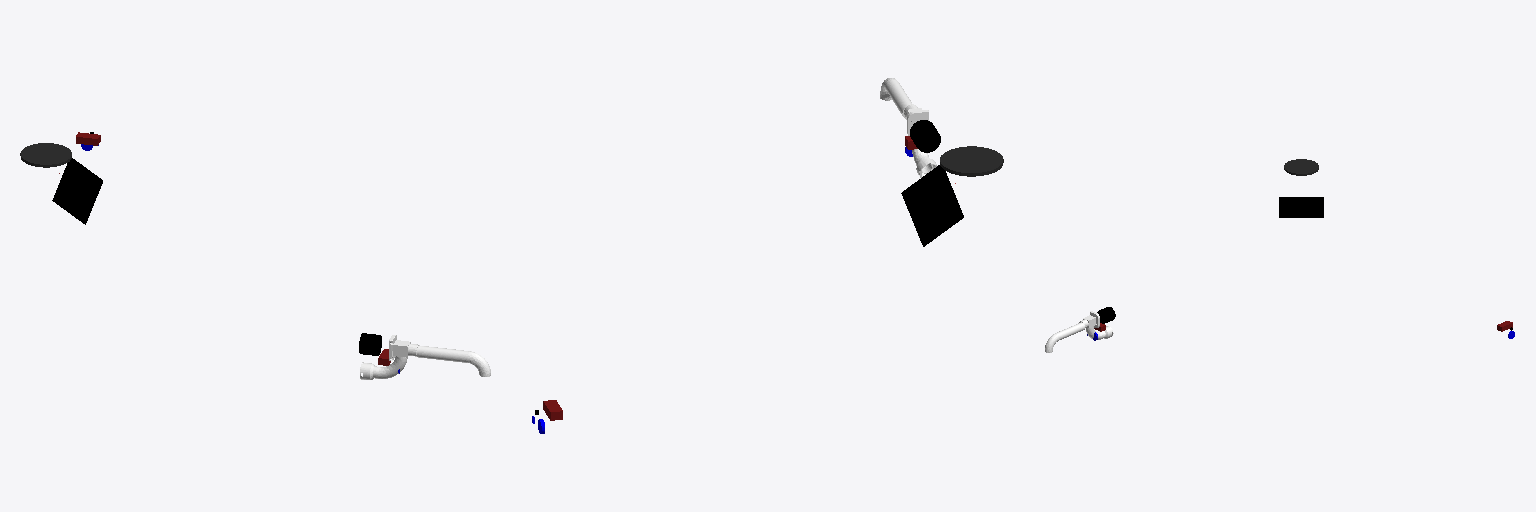
--- Facts derived from the render (not from the file) ---
The picture shows the robot from 3 angles, left to right: view 1: azimuth 30°, elevation 25°; view 2: azimuth 150°, elevation 25°; view 3: azimuth 270°, elevation 25°; orthographic projection.
Robot: baxter — 54 links, 53 joints (15 revolute, 38 fixed); root link base; default pose: all joints at 0.
Links seen in each view (by area): view 1: display, custom_vacuum_link_base, sonar_ring, custom_vacuum_link; view 2: display, sonar_ring, custom_vacuum_link_base, custom_vacuum_link_side2_base, custom_vacuum_link; view 3: display.
Boxes of the visible links, x1,y1,x2,y2 form: display: (52, 158, 102, 224); custom_vacuum_link_base: (360, 335, 418, 379); sonar_ring: (20, 143, 71, 167); custom_vacuum_link: (417, 345, 490, 376); display: (901, 165, 963, 246); sonar_ring: (940, 146, 1003, 176); custom_vacuum_link_base: (904, 104, 936, 177); custom_vacuum_link_side2_base: (910, 120, 940, 152); custom_vacuum_link: (880, 78, 911, 119); display: (1279, 197, 1323, 217).
Bounding box of the posed robot: 1.07 × 2.27 × 0.595 m (x, y, z).
2 mesh visuals loaded from 13 distinct referenced files (2 Collada DAE); not drawn: 18 (reference not matched to a file when rendering).

URDF robot description (baxter):
<?xml version="1.0" ?>
<!-- =================================================================================== -->
<!-- |    This document was autogenerated by xacro from baxter_white_hand.urdf.xacro   | -->
<!-- |    EDITING THIS FILE BY HAND IS NOT RECOMMENDED                                 | -->
<!-- =================================================================================== -->
<robot name="baxter" xmlns:xacro="http://ros.org/wiki/xacro">
  <link name="base">
  </link>
  <link name="torso">
    <visual>
      <origin rpy="0 0 0" xyz="0 0 0"/>
      <geometry>
        <mesh filename="package://baxter_description/meshes/torso/base_link_collision.STL"/>
      </geometry>
      <material name="darkgray">
        <color rgba=".2 .2 .2 1"/>
      </material>
    </visual>
    <collision>
      <origin rpy="0 0 0" xyz="0 0 0"/>
      <geometry>
        <mesh filename="package://baxter_description/meshes/torso/base_link_collision.STL"/>
      </geometry>
    </collision>
    <inertial>
      <origin rpy="0 0 0" xyz="0.000000 0.000000 0.000000"/>
      <mass value="35.336455"/>
      <inertia ixx="1.849155" ixy="-0.000354" ixz="-0.154188" iyy="1.662671" iyz="0.003292" izz="0.802239"/>
    </inertial>
  </link>
  <link name="left_torso_itb">
    <!-- note: invisible -->
    <inertial>
      <origin rpy="0 0 0" xyz="0.000000 0.000000 0.000000"/>
      <mass value="0.0001"/>
      <inertia ixx="1e-08" ixy="0" ixz="0" iyy="1e-08" iyz="0" izz="1e-08"/>
    </inertial>
  </link>
  <link name="right_torso_itb">
    <!-- note: invisible -->
    <inertial>
      <origin rpy="0 0 0" xyz="0.000000 0.000000 0.000000"/>
      <mass value="0.0001"/>
      <inertia ixx="1e-08" ixy="0" ixz="0" iyy="1e-08" iyz="0" izz="1e-08"/>
    </inertial>
  </link>
  <link name="pedestal">
    <visual>
      <origin rpy="0 0 0" xyz="0 0 0"/>
      <geometry>
        <mesh filename="package://baxter_description/meshes/base/pedestal_link_collision.STL"/>
      </geometry>
      <material name="darkgray">
        <color rgba=".2 .2 .2 1"/>
      </material>
    </visual>
    <collision>
      <origin rpy="0 0 0" xyz="0 0 0"/>
      <geometry>
        <mesh filename="package://baxter_description/meshes/base/pedestal_link_collision.STL"/>
      </geometry>
    </collision>
    <inertial>
      <origin rpy="0 0 0" xyz="0 0 0"/>
      <mass value="60.86397744"/>
      <inertia ixx="5.0635929" ixy="0.00103417" ixz="0.80199628" iyy="6.08689388" iyz="0.00105311" izz="4.96191932"/>
    </inertial>
  </link>
  <link name="head">
    <visual>
      <origin rpy="0 0 0" xyz="0 0 .00953"/>
      <geometry>
        <mesh filename="package://baxter_description/meshes/head/H0_simple.STL"/>
      </geometry>
      <material name="darkgray">
        <color rgba=".2 .2 .2 1"/>
      </material>
    </visual>
    <collision>
      <origin rpy="0 0 0" xyz="0.0 0 0.0"/>
      <geometry>
        <sphere radius="0.001"/>
      </geometry>
    </collision>
    <inertial>
      <origin rpy="0 0 0" xyz="0 0 0"/>
      <mass value="0.547767"/>
      <inertia ixx="0.004641" ixy="0.000159" ixz="0.000242" iyy="0.003295" iyz="-0.001324" izz="0.003415"/>
    </inertial>
  </link>
  <link name="sonar_ring">
    <visual>
      <origin rpy="0 0 0" xyz="-.0347 0 .00953"/>
      <geometry>
        <cylinder length="0.01" radius="0.085"/>
      </geometry>
      <material name="darkgray">
        <color rgba=".2 .2 .2 1"/>
      </material>
    </visual>
    <collision>
      <origin rpy="0 0 0" xyz="0.0 0 0.0"/>
      <geometry>
        <sphere radius="0.001"/>
      </geometry>
    </collision>
    <inertial>
      <origin rpy="0 0 0" xyz="0 0 0"/>
      <mass value="0.0001"/>
      <inertia ixx="1e-08" ixy="0" ixz="0" iyy="1e-08" iyz="0" izz="1e-08"/>
    </inertial>
  </link>
  <link name="screen">
    <visual>
      <origin rpy="0 -1.57079632679 0" xyz="0 -.00953 -.0347"/>
      <geometry>
        <mesh filename="package://baxter_description/meshes/head/H1_simple.STL"/>
      </geometry>
      <material name="darkred">
        <color rgba=".5 .1 .1 1"/>
      </material>
    </visual>
    <collision>
      <origin rpy="0 0 0" xyz="0.0 0 0.0"/>
      <geometry>
        <sphere radius="0.001"/>
      </geometry>
    </collision>
    <inertial>
      <origin rpy="0 0 0" xyz="0 0 0"/>
      <mass value="0.440171"/>
      <inertia ixx="0.004006" ixy="0.000230" ixz="0.000002" iyy="0.002800" iyz="0.000029" izz="0.001509"/>
    </inertial>
  </link>
  <link name="display">
    <visual>
      <origin rpy="0.2617993877991494 0 0" xyz="0 0 0"/>
      <geometry>
        <box size="0.218 0.16 0.001"/>
      </geometry>
      <material name="black">
        <color rgba="0 0 0 1"/>
      </material>
    </visual>
    <inertial>
      <origin rpy="0 0 0" xyz="0 0 0"/>
      <mass value="0.0001"/>
      <inertia ixx="1e-08" ixy="0" ixz="0" iyy="1e-08" iyz="0" izz="1e-08"/>
    </inertial>
  </link>
  <link name="head_camera">
    <inertial>
      <origin rpy="0 0 0" xyz="0 0 0"/>
      <mass value="0.0001"/>
      <inertia ixx="1e-08" ixy="0" ixz="0" iyy="1e-08" iyz="0" izz="1e-08"/>
    </inertial>
  </link>
  <link name="dummyhead1">
    <inertial>
      <origin rpy="0 0 0" xyz="0 0 0"/>
      <mass value="0.0001"/>
      <inertia ixx="1e-08" ixy="0" ixz="0" iyy="1e-08" iyz="0" izz="1e-08"/>
    </inertial>
  </link>
  <link name="collision_head_link_1">
    <visual>
      <origin rpy="0 0 0" xyz="0 0 0"/>
      <geometry>
        <sphere radius="0.001"/>
      </geometry>
      <material name="red">
        <color rgba="0.8 0.3 0.3 0.3"/>
      </material>
    </visual>
    <collision>
      <origin rpy="0 0 0.0" xyz="-0.07 -0.04 0.0"/>
      <geometry>
        <sphere radius="0.22"/>
      </geometry>
    </collision>
    <inertial>
      <origin rpy="0 0 0" xyz="0 0 0"/>
      <mass value="0.0001"/>
      <inertia ixx="1e-08" ixy="0" ixz="0" iyy="1e-08" iyz="0" izz="1e-08"/>
    </inertial>
  </link>
  <link name="collision_head_link_2">
    <visual>
      <origin rpy="0 0 0" xyz="0 0 0"/>
      <geometry>
        <sphere radius="0.001"/>
      </geometry>
      <material name="red">
        <color rgba="0.8 0.3 0.3 0.3"/>
      </material>
    </visual>
    <collision>
      <origin rpy="0 0 0" xyz="-0.07 0.04 0.00"/>
      <geometry>
        <sphere radius="0.22"/>
      </geometry>
    </collision>
    <inertial>
      <origin rpy="0 0 0" xyz="0 0 0"/>
      <mass value="0.0001"/>
      <inertia ixx="1e-08" ixy="0" ixz="0" iyy="1e-08" iyz="0" izz="1e-08"/>
    </inertial>
  </link>
  <joint name="collision_head_1" type="fixed">
    <origin rpy="0 0 0" xyz="0.11 0 0.75"/>
    <parent link="base"/>
    <child link="collision_head_link_1"/>
  </joint>
  <joint name="collision_head_2" type="fixed">
    <origin rpy="0 0 0" xyz="0.11 0 0.75"/>
    <parent link="base"/>
    <child link="collision_head_link_2"/>
  </joint>
  <joint name="dummy" type="fixed">
    <origin rpy="0 0 0" xyz="0 0 0"/>
    <parent link="head"/>
    <child link="dummyhead1"/>
  </joint>
  <joint name="torso_t0" type="fixed">
    <origin rpy="0 0 0" xyz="0 0 0"/>
    <parent link="base"/>
    <child link="torso"/>
    <limit effort="50000" lower="-3.01" upper="3.01" velocity="10000"/>
  </joint>
  <joint name="left_torso_itb_fixed" type="fixed">
    <origin rpy="-1.57079632679 3.1415 0" xyz="-0.08897 0.15593 0.389125"/>
    <parent link="torso"/>
    <child link="left_torso_itb"/>
  </joint>
  <joint name="right_torso_itb_fixed" type="fixed">
    <origin rpy="1.57079632679 0 0" xyz="-0.08897 -0.15593 0.389125"/>
    <parent link="torso"/>
    <child link="right_torso_itb"/>
  </joint>
  <joint name="pedestal_fixed" type="fixed">
    <origin rpy="0 0 0" xyz="0.0 0.0 0.0"/>
    <parent link="torso"/>
    <child link="pedestal"/>
  </joint>
  <joint name="head_pan" type="revolute">
    <origin rpy="0 0 0" xyz="0.06 0 0.686"/>
    <axis xyz="0 0 1"/>
    <parent link="torso"/>
    <child link="head"/>
    <limit effort="50000" lower="-1.57079632679" upper="1.57079632679" velocity="10000"/>
    <dynamics damping="0.7" friction="0.0"/>
  </joint>
  <joint name="head_nod" type="fixed">
    <origin rpy="1.75057 0 1.57079632679" xyz=".1227 0 0"/>
    <parent link="head"/>
    <child link="screen"/>
  </joint>
  <joint name="head_camera" type="fixed">
    <origin rpy="1.75057 0 1.57079632679" xyz="0.12839 0 0.06368"/>
    <parent link="head"/>
    <child link="head_camera"/>
  </joint>
  <joint name="display_joint" type="fixed">
    <origin rpy="0 0 0" xyz="0.0 -0.016 0.0"/>
    <parent link="screen"/>
    <child link="display"/>
  </joint>
  <joint name="sonar_s0" type="fixed">
    <origin rpy="0 0 0" xyz="0.0947 0 .817"/>
    <axis xyz="0 0 1"/>
    <parent link="torso"/>
    <child link="sonar_ring"/>
  </joint>
  <link name="right_arm_mount">
    <!-- all defaults -->
    <inertial>
      <origin rpy="0 0 0" xyz="0 0 0"/>
      <mass value="0.0001"/>
      <inertia ixx="1e-08" ixy="0" ixz="0" iyy="1e-08" iyz="0" izz="1e-08"/>
    </inertial>
  </link>
  <link name="right_upper_shoulder">
    <visual>
      <origin rpy="0 0 0" xyz="0 0 0"/>
      <geometry>
        <mesh filename="package://baxter_description/meshes/upper_shoulder/S0_simple.STL"/>
      </geometry>
      <material name="darkred">
        <color rgba=".5 .1 .1 1"/>
      </material>
    </visual>
    <collision>
      <origin rpy="0 0 0" xyz="0 0 0.1361"/>
      <geometry>
        <cylinder length="0.2722" radius="0.06"/>
      </geometry>
    </collision>
    <inertial>
      <origin rpy="0 0 0" xyz="0.01783 0.00086 0.19127"/>
      <mass value="5.70044"/>
      <inertia ixx="0.04709102262" ixy="0.00012787556" ixz="0.00614870039" iyy="0.03766976455" iyz="0.00078086899" izz="0.03595988478"/>
    </inertial>
  </link>
  <link name="right_lower_shoulder">
    <visual>
      <origin rpy="0 0 0" xyz="0 0 0"/>
      <geometry>
        <mesh filename="package://baxter_description/meshes/lower_shoulder/S1_simple.STL"/>
      </geometry>
      <material name="darkred">
        <color rgba=".5 .1 .1 1"/>
      </material>
    </visual>
    <collision>
      <origin rpy="0 0 0" xyz="0 0 0"/>
      <geometry>
        <cylinder length="0.12" radius="0.06"/>
      </geometry>
    </collision>
    <inertial>
      <origin rpy="0 0 0" xyz="0.06845 0.00269 -0.00529"/>
      <mass value="3.22698"/>
      <inertia ixx="0.01175209419" ixy="-0.00030096398" ixz="0.00207675762" iyy="0.0278859752" iyz="-0.00018821993" izz="0.02078749298"/>
    </inertial>
  </link>
  <link name="right_upper_elbow">
    <visual>
      <origin rpy="0 0 0" xyz="0 0 0"/>
      <geometry>
        <mesh filename="package://baxter_description/meshes/upper_elbow/E0_simple.STL"/>
      </geometry>
      <material name="darkred">
        <color rgba=".5 .1 .1 1"/>
      </material>
    </visual>
    <collision>
      <origin rpy="0 0 0" xyz="0 0 -0.0535"/>
      <geometry>
        <cylinder length="0.107" radius="0.06"/>
      </geometry>
    </collision>
    <inertial>
      <origin rpy="0 0 0" xyz="-0.00276 0.00132 0.18086"/>
      <mass value="4.31272"/>
      <inertia ixx="0.02661733557" ixy="0.00029270634" ixz="0.00392189887" iyy="0.02844355207" iyz="0.0010838933" izz="0.01248008322"/>
    </inertial>
  </link>
  <link name="right_upper_elbow_visual">
    <collision>
      <origin rpy="0 0 0" xyz="0 0 0.1365"/>
      <geometry>
        <cylinder length="0.273" radius="0.06"/>
      </geometry>
    </collision>
    <inertial>
      <origin rpy="0 0 0" xyz="0 0 0"/>
      <mass value="0.0001"/>
      <inertia ixx="1e-08" ixy="0" ixz="0" iyy="1e-08" iyz="0" izz="1e-08"/>
    </inertial>
  </link>
  <link name="right_lower_elbow">
    <visual>
      <origin rpy="0 0 0" xyz="0 0 0"/>
      <geometry>
        <mesh filename="package://baxter_description/meshes/lower_elbow/E1_simple.STL"/>
      </geometry>
      <material name="darkred">
        <color rgba=".5 .1 .1 1"/>
      </material>
    </visual>
    <collision>
      <origin rpy="0 0 0" xyz="0.0 0.0 0.0"/>
      <geometry>
        <cylinder length="0.10" radius="0.06"/>
      </geometry>
    </collision>
    <inertial>
      <origin rpy="0 0 0" xyz="0.02611 0.00159 -0.01117"/>
      <mass value="2.07206"/>
      <inertia ixx="0.00711582686" ixy="0.00036036173" ixz="0.0007459496" iyy="0.01318227876" iyz="-0.00019663418" izz="0.00926852064"/>
    </inertial>
  </link>
  <link name="right_upper_forearm">
    <visual>
      <origin rpy="0 0 0" xyz="0 0 0"/>
      <geometry>
        <mesh filename="package://baxter_description/meshes/upper_forearm/W0_simple.STL"/>
      </geometry>
      <material name="darkred">
        <color rgba=".5 .1 .1 1"/>
      </material>
    </visual>
    <collision>
      <origin rpy="0 0 0" xyz="0 0 -0.044"/>
      <geometry>
        <cylinder length="0.088" radius="0.06"/>
      </geometry>
    </collision>
    <inertial>
      <origin rpy="0 0 0" xyz="-0.00168 0.0046 0.13952"/>
      <mass value="2.24665"/>
      <inertia ixx="0.01667742825" ixy="0.00018403705" ixz="0.00018657629" iyy="0.01675457264" iyz="-0.00064732352" izz="0.0037463115"/>
    </inertial>
  </link>
  <link name="right_upper_forearm_visual">
    <collision>
      <origin rpy="0 0 0" xyz="0 0 0.136"/>
      <geometry>
        <cylinder length="0.272" radius="0.06"/>
      </geometry>
    </collision>
    <inertial>
      <origin rpy="0 0 0" xyz="0 0 0"/>
      <mass value="0.0001"/>
      <inertia ixx="1e-08" ixy="0" ixz="0" iyy="1e-08" iyz="0" izz="1e-08"/>
    </inertial>
  </link>
  <link name="right_arm_itb">
    <!-- note: invisible -->
    <inertial>
      <origin rpy="0 0 0" xyz="0.000000 0.000000 0.000000"/>
      <mass value="0.0001"/>
      <inertia ixx="1e-08" ixy="0" ixz="0" iyy="1e-08" iyz="0" izz="1e-08"/>
    </inertial>
  </link>
  <link name="right_lower_forearm">
    <visual>
      <origin rpy="0 0 0" xyz="0 0 0"/>
      <geometry>
        <mesh filename="package://baxter_description/meshes/lower_forearm/W1_simple.STL"/>
      </geometry>
      <material name="darkred">
        <color rgba=".5 .1 .1 1"/>
      </material>
    </visual>
    <collision>
      <origin rpy="0 0 0" xyz="0 0 0"/>
      <geometry>
        <cylinder length="0.10" radius="0.06"/>
      </geometry>
    </collision>
    <inertial>
      <origin rpy="0 0 0" xyz="0.06041 0.00697 0.006"/>
      <mass value="1.60979"/>
      <inertia ixx="0.00387607152" ixy="-0.00044384784" ixz="-0.00021115038" iyy="0.00700537914" iyz="0.00015348067" izz="0.0055275524"/>
    </inertial>
  </link>
  <link name="right_wrist">
    <visual>
      <origin rpy="0 0 0" xyz="0 0 0"/>
      <geometry>
        <mesh filename="package://baxter_description/meshes/wrist/W2_simple.STL"/>
      </geometry>
      <material name="lightgrey">
        <color rgba=".1 .1 .1 1"/>
      </material>
    </visual>
    <collision>
      <origin rpy="0 0 0" xyz="0 0 0"/>
      <geometry>
        <cylinder length="0.165" radius="0.06"/>
      </geometry>
    </collision>
    <inertial>
      <origin rpy="0 0 0" xyz="0.00198 0.00125 0.01855"/>
      <mass value="0.35093"/>
      <inertia ixx="0.00025289155" ixy="0.00000575311" ixz="-0.00000159345" iyy="0.0002688601" iyz="-0.00000519818" izz="0.0003074118"/>
    </inertial>
  </link>
  <link name="right_hand">
    <collision>
      <origin rpy="0 0 0" xyz="0 0 -0.0232"/>
      <geometry>
        <cylinder length="0.0464" radius="0.04"/>
      </geometry>
    </collision>
    <inertial>
      <origin rpy="0 0 0" xyz="0.01093 0.00042 -0.01532"/>
      <mass value="0.19125"/>
      <inertia ixx="0.00017588" ixy="0.00000147073" ixz="0.0000243633" iyy="0.00021166377" iyz="0.00000172689" izz="0.00023745397"/>
    </inertial>
  </link>
  <link name="right_hand_camera">
    <visual>
      <origin rpy="0 0 0" xyz="0 0 0"/>
      <geometry>
        <cylinder length="0.01" radius="0.02"/>
      </geometry>
      <material name="blue">
        <color rgba="0 0 1 0.8"/>
      </material>
    </visual>
    <inertial>
      <origin rpy="0 0 0" xyz="0 0 0"/>
      <mass value="0.0001"/>
      <inertia ixx="1e-08" ixy="0" ixz="0" iyy="1e-08" iyz="0" izz="1e-08"/>
    </inertial>
  </link>
  <link name="right_hand_camera_axis">
    <inertial>
      <origin rpy="0 0 0" xyz="0 0 0"/>
      <mass value="0.0001"/>
      <inertia ixx="1e-08" ixy="0" ixz="0" iyy="1e-08" iyz="0" izz="1e-08"/>
    </inertial>
  </link>
  <link name="right_hand_range">
    <visual>
      <origin rpy="0 0 0" xyz="0 0 0"/>
      <geometry>
        <box size="0.005 .02 .005"/>
      </geometry>
      <material name="blue">
        <color rgba="0 0 1 0.8"/>
      </material>
    </visual>
    <inertial>
      <origin rpy="0 0 0" xyz="0 0 0"/>
      <mass value="0.0001"/>
      <inertia ixx="1e-08" ixy="0" ixz="0" iyy="1e-08" iyz="0" izz="1e-08"/>
    </inertial>
  </link>
  <link name="right_hand_accelerometer">
    <visual>
      <origin rpy="0 0 0" xyz="0 0 0"/>
      <geometry>
        <box size="0.01 0.01 0.01"/>
      </geometry>
      <material name="black">
        <color rgba="0 0 0 1"/>
      </material>
    </visual>
    <inertial>
      <origin rpy="0 0 0" xyz="0.000000 0.000000 0.000000"/>
      <mass value="0.0001"/>
      <inertia ixx="1e-08" ixy="0" ixz="0" iyy="1e-08" iyz="0" izz="1e-08"/>
    </inertial>
  </link>
  <link name="right_gripper_base">
    <visual>
      <origin rpy="0 0 0" xyz="0 0 -0.02"/>
      <geometry>
        <box size="0.025 0.075 0.035"/>
      </geometry>
      <material name="darkred">
        <color rgba=".5 .1 .1 1"/>
      </material>
    </visual>
    <inertial>
      <origin rpy="0 0 0" xyz="0.000000 0.000000 0.000000"/>
      <mass value="0.0001"/>
      <inertia ixx="1e-08" ixy="0" ixz="0" iyy="1e-08" iyz="0" izz="1e-08"/>
    </inertial>
  </link>
  <link name="right_gripper">
    <visual>
      <origin rpy="0 0 0" xyz="0 0 0"/>
      <geometry>
        <box size="0.01 0.01 0.01"/>
      </geometry>
      <material name="black">
        <color rgba="0 0 0 1"/>
      </material>
    </visual>
    <inertial>
      <origin rpy="0 0 0" xyz="0.000000 0.000000 0.000000"/>
      <mass value="0.0001"/>
      <inertia ixx="1e-08" ixy="0" ixz="0" iyy="1e-08" iyz="0" izz="1e-08"/>
    </inertial>
  </link>
  <joint name="right_torso_arm_mount" type="fixed">
    <origin rpy="0 0 -0.7854" xyz="0.024645 -0.219645 0.118588"/>
    <parent link="torso"/>
    <child link="right_arm_mount"/>
  </joint>
  <joint name="right_s0" type="revolute">
    <origin rpy="0 0 0" xyz="0.055695 0 0.011038"/>
    <axis xyz="0 0 1"/>
    <parent link="right_arm_mount"/>
    <child link="right_upper_shoulder"/>
    <limit effort="50.0" lower="-1.70167993878" upper="1.70167993878" velocity="1.5"/>
    <dynamics damping="0.7" friction="0.0"/>
  </joint>
  <joint name="right_s1" type="revolute">
    <origin rpy="-1.57079632679 0 0" xyz="0.069 0 0.27035"/>
    <axis xyz="0 0 1"/>
    <parent link="right_upper_shoulder"/>
    <child link="right_lower_shoulder"/>
    <limit effort="100.0" lower="-2.147" upper="1.047" velocity="1.5"/>
    <dynamics damping="0.7" friction="0.0"/>
  </joint>
  <joint name="right_e0" type="revolute">
    <origin rpy="1.57079632679 0 1.57079632679" xyz="0.102 0 0"/>
    <axis xyz="0 0 1"/>
    <parent link="right_lower_shoulder"/>
    <child link="right_upper_elbow"/>
    <limit effort="50.0" lower="-3.05417993878" upper="3.05417993878" velocity="1.5"/>
    <dynamics damping="0.7" friction="0.0"/>
  </joint>
  <joint name="right_e0_fixed" type="fixed">
    <origin rpy="1.57079632679 0 1.57079632679" xyz="0.107 0 0"/>
    <axis xyz="0 0 1"/>
    <parent link="right_lower_shoulder"/>
    <child link="right_upper_elbow_visual"/>
  </joint>
  <joint name="right_e1" type="revolute">
    <origin rpy="-1.57079632679 -1.57079632679 0" xyz="0.069 0 0.26242"/>
    <axis xyz="0 0 1"/>
    <parent link="right_upper_elbow"/>
    <child link="right_lower_elbow"/>
    <limit effort="50.0" lower="-0.05" upper="2.618" velocity="1.5"/>
    <dynamics damping="0.7" friction="0.0"/>
  </joint>
  <joint name="right_w0" type="revolute">
    <origin rpy="1.57079632679 0 1.57079632679" xyz="0.10359 0 0"/>
    <axis xyz="0 0 1"/>
    <parent link="right_lower_elbow"/>
    <child link="right_upper_forearm"/>
    <limit effort="15.0" lower="-3.059" upper="3.059" velocity="4.0"/>
    <dynamics damping="0.7" friction="0.0"/>
  </joint>
  <joint name="right_w0_fixed" type="fixed">
    <origin rpy="1.57079632679 0 1.57079632679" xyz="0.088 0 0"/>
    <axis xyz="0 0 1"/>
    <parent link="right_lower_elbow"/>
    <child link="right_upper_forearm_visual"/>
  </joint>
  <joint name="right_w0_to_itb_fixed" type="fixed">
    <origin rpy="-1.57079632679 0 1.57079632679" xyz="-0.0565 0 0.12"/>
    <axis xyz="0 0 1"/>
    <parent link="right_upper_forearm"/>
    <child link="right_arm_itb"/>
  </joint>
  <joint name="right_w1" type="revolute">
    <origin rpy="-1.57079632679 -1.57079632679 0" xyz="0.01 0 0.2707"/>
    <axis xyz="0 0 1"/>
    <parent link="right_upper_forearm"/>
    <child link="right_lower_forearm"/>
    <limit effort="15.0" lower="-1.57079632679" upper="2.094" velocity="4.0"/>
    <dynamics damping="0.7" friction="0.0"/>
  </joint>
  <joint name="right_w2" type="revolute">
    <origin rpy="1.57079632679 0 1.57079632679" xyz="0.115975 0 0"/>
    <axis xyz="0 0 1"/>
    <parent link="right_lower_forearm"/>
    <child link="right_wrist"/>
    <limit effort="15.0" lower="-3.059" upper="3.059" velocity="4.0"/>
    <dynamics damping="0.7" friction="0.0"/>
  </joint>
  <joint name="right_hand" type="fixed">
    <origin rpy="0 0 0" xyz="0 0 0.11355"/>
    <axis xyz="0 0 1"/>
    <parent link="right_wrist"/>
    <child link="right_hand"/>
    <dynamics damping="0.7" friction="0.0"/>
  </joint>
  <joint name="right_hand_camera" type="fixed">
    <origin rpy="0 0 -1.57079633" xyz="0.03825 0.012 0.015355"/>
    <parent link="right_hand"/>
    <child link="right_hand_camera"/>
  </joint>
  <joint name="right_hand_camera_axis" type="fixed">
    <origin rpy="0 0 0" xyz="0.03825 0.012 0.015355"/>
    <parent link="right_hand"/>
    <child link="right_hand_camera_axis"/>
  </joint>
  <joint name="right_hand_range" type="fixed">
    <origin rpy="0 -1.57079632679 -1.57079632679" xyz="0.032 -0.020245 0.0288"/>
    <parent link="right_hand"/>
    <child link="right_hand_range"/>
  </joint>
  <joint name="right_hand_accelerometer" type="fixed">
    <origin rpy="0 0 0" xyz="0.00198 0.000133 -0.0146"/>
    <parent link="right_hand"/>
    <child link="right_hand_accelerometer"/>
  </joint>
  <joint name="right_gripper_base" type="fixed">
    <origin rpy="0 0 0" xyz="0 0 0"/>
    <parent link="right_hand"/>
    <child link="right_gripper_base"/>
  </joint>
  <joint name="right_endpoint" type="fixed">
    <origin rpy="0 0 0" xyz="0.0 0 0.025"/>
    <parent link="right_gripper_base"/>
    <child link="right_gripper"/>
  </joint>
  <link name="left_arm_mount">
    <!-- all defaults -->
    <inertial>
      <origin rpy="0 0 0" xyz="0 0 0"/>
      <mass value="0.0001"/>
      <inertia ixx="1e-08" ixy="0" ixz="0" iyy="1e-08" iyz="0" izz="1e-08"/>
    </inertial>
  </link>
  <link name="left_upper_shoulder">
    <visual>
      <origin rpy="0 0 0" xyz="0 0 0"/>
      <geometry>
        <mesh filename="package://baxter_description/meshes/upper_shoulder/S0_simple.STL"/>
      </geometry>
      <material name="darkred">
        <color rgba=".5 .1 .1 1"/>
      </material>
    </visual>
    <collision>
      <origin rpy="0 0 0" xyz="0 0 0.1361"/>
      <geometry>
        <cylinder length="0.2722" radius="0.06"/>
      </geometry>
    </collision>
    <inertial>
      <origin rpy="0 0 0" xyz="0.01783 0.00086 0.19127"/>
      <mass value="5.70044"/>
      <inertia ixx="0.04709102262" ixy="0.00012787556" ixz="0.00614870039" iyy="0.03766976455" iyz="0.00078086899" izz="0.03595988478"/>
    </inertial>
  </link>
  <link name="left_lower_shoulder">
    <visual>
      <origin rpy="0 0 0" xyz="0 0 0"/>
      <geometry>
        <mesh filename="package://baxter_description/meshes/lower_shoulder/S1_simple.STL"/>
      </geometry>
      <material name="darkred">
        <color rgba=".5 .1 .1 1"/>
      </material>
    </visual>
    <collision>
      <origin rpy="0 0 0" xyz="0 0 0"/>
      <geometry>
        <cylinder length="0.12" radius="0.06"/>
      </geometry>
    </collision>
    <inertial>
      <origin rpy="0 0 0" xyz="0.06845 0.00269 -0.00529"/>
      <mass value="3.22698"/>
      <inertia ixx="0.01175209419" ixy="-0.00030096398" ixz="0.00207675762" iyy="0.0278859752" iyz="-0.00018821993" izz="0.02078749298"/>
    </inertial>
  </link>
  <link name="left_upper_elbow">
    <visual>
      <origin rpy="0 0 0" xyz="0 0 0"/>
      <geometry>
        <mesh filename="package://baxter_description/meshes/upper_elbow/E0_simple.STL"/>
      </geometry>
      <material name="darkred">
        <color rgba=".5 .1 .1 1"/>
      </material>
    </visual>
    <collision>
      <origin rpy="0 0 0" xyz="0 0 -0.0535"/>
      <geometry>
        <cylinder length="0.107" radius="0.06"/>
      </geometry>
    </collision>
    <inertial>
      <origin rpy="0 0 0" xyz="-0.00276 0.00132 0.18086"/>
      <mass value="4.31272"/>
      <inertia ixx="0.02661733557" ixy="0.00029270634" ixz="0.00392189887" iyy="0.02844355207" iyz="0.0010838933" izz="0.01248008322"/>
    </inertial>
  </link>
  <link name="left_upper_elbow_visual">
    <collision>
      <origin rpy="0 0 0" xyz="0 0 0.1365"/>
      <geometry>
        <cylinder length="0.273" radius="0.06"/>
      </geometry>
    </collision>
    <inertial>
      <origin rpy="0 0 0" xyz="0 0 0"/>
      <mass value="0.0001"/>
      <inertia ixx="1e-08" ixy="0" ixz="0" iyy="1e-08" iyz="0" izz="1e-08"/>
    </inertial>
  </link>
  <link name="left_lower_elbow">
    <visual>
      <origin rpy="0 0 0" xyz="0 0 0"/>
      <geometry>
        <mesh filename="package://baxter_description/meshes/lower_elbow/E1_simple.STL"/>
      </geometry>
      <material name="darkred">
        <color rgba=".5 .1 .1 1"/>
      </material>
    </visual>
    <collision>
      <origin rpy="0 0 0" xyz="0.0 0.0 0.0"/>
      <geometry>
        <cylinder length="0.10" radius="0.06"/>
      </geometry>
    </collision>
    <inertial>
      <origin rpy="0 0 0" xyz="0.02611 0.00159 -0.01117"/>
      <mass value="2.07206"/>
      <inertia ixx="0.00711582686" ixy="0.00036036173" ixz="0.0007459496" iyy="0.01318227876" iyz="-0.00019663418" izz="0.00926852064"/>
    </inertial>
  </link>
  <link name="left_upper_forearm">
    <visual>
      <origin rpy="0 0 0" xyz="0 0 0"/>
      <geometry>
        <mesh filename="package://baxter_description/meshes/upper_forearm/W0_simple.STL"/>
      </geometry>
      <material name="darkred">
        <color rgba=".5 .1 .1 1"/>
      </material>
    </visual>
    <collision>
      <origin rpy="0 0 0" xyz="0 0 -0.044"/>
      <geometry>
        <cylinder length="0.088" radius="0.06"/>
      </geometry>
    </collision>
    <inertial>
      <origin rpy="0 0 0" xyz="-0.00168 0.0046 0.13952"/>
      <mass value="2.24665"/>
      <inertia ixx="0.01667742825" ixy="0.00018403705" ixz="0.00018657629" iyy="0.01675457264" iyz="-0.00064732352" izz="0.0037463115"/>
    </inertial>
  </link>
  <link name="left_upper_forearm_visual">
    <collision>
      <origin rpy="0 0 0" xyz="0 0 0.136"/>
      <geometry>
        <cylinder length="0.272" radius="0.06"/>
      </geometry>
    </collision>
    <inertial>
      <origin rpy="0 0 0" xyz="0 0 0"/>
      <mass value="0.0001"/>
      <inertia ixx="1e-08" ixy="0" ixz="0" iyy="1e-08" iyz="0" izz="1e-08"/>
    </inertial>
  </link>
  <link name="left_arm_itb">
    <!-- note: invisible -->
    <inertial>
      <origin rpy="0 0 0" xyz="0.000000 0.000000 0.000000"/>
      <mass value="0.0001"/>
      <inertia ixx="1e-08" ixy="0" ixz="0" iyy="1e-08" iyz="0" izz="1e-08"/>
    </inertial>
  </link>
  <link name="left_lower_forearm">
    <visual>
      <origin rpy="0 0 0" xyz="0 0 0"/>
      <geometry>
        <mesh filename="package://baxter_description/meshes/lower_forearm/W1_simple.STL"/>
      </geometry>
      <material name="darkred">
        <color rgba=".5 .1 .1 1"/>
      </material>
    </visual>
    <collision>
      <origin rpy="0 0 0" xyz="0 0 0"/>
      <geometry>
        <cylinder length="0.10" radius="0.06"/>
      </geometry>
    </collision>
    <inertial>
      <origin rpy="0 0 0" xyz="0.06041 0.00697 0.006"/>
      <mass value="1.60979"/>
      <inertia ixx="0.00387607152" ixy="-0.00044384784" ixz="-0.00021115038" iyy="0.00700537914" iyz="0.00015348067" izz="0.0055275524"/>
    </inertial>
  </link>
  <link name="left_wrist">
    <visual>
      <origin rpy="0 0 0" xyz="0 0 0"/>
      <geometry>
        <mesh filename="package://baxter_description/meshes/wrist/W2_simple.STL"/>
      </geometry>
      <material name="lightgrey">
        <color rgba=".1 .1 .1 1"/>
      </material>
    </visual>
    <collision>
      <origin rpy="0 0 0" xyz="0 0 0"/>
      <geometry>
        <cylinder length="0.165" radius="0.06"/>
      </geometry>
    </collision>
    <inertial>
      <origin rpy="0 0 0" xyz="0.00198 0.00125 0.01855"/>
      <mass value="0.35093"/>
      <inertia ixx="0.00025289155" ixy="0.00000575311" ixz="-0.00000159345" iyy="0.0002688601" iyz="-0.00000519818" izz="0.0003074118"/>
    </inertial>
  </link>
  <link name="left_hand">
    <collision>
      <origin rpy="0 0 0" xyz="0 0 -0.0232"/>
      <geometry>
        <cylinder length="0.0464" radius="0.04"/>
      </geometry>
    </collision>
    <inertial>
      <origin rpy="0 0 0" xyz="0.01093 0.00042 -0.01532"/>
      <mass value="0.19125"/>
      <inertia ixx="0.00017588" ixy="0.00000147073" ixz="0.0000243633" iyy="0.00021166377" iyz="0.00000172689" izz="0.00023745397"/>
    </inertial>
  </link>
  <link name="left_hand_camera">
    <visual>
      <origin rpy="0 0 0" xyz="0 0 0"/>
      <geometry>
        <cylinder length="0.01" radius="0.02"/>
      </geometry>
      <material name="blue">
        <color rgba="0 0 1 0.8"/>
      </material>
    </visual>
    <inertial>
      <origin rpy="0 0 0" xyz="0 0 0"/>
      <mass value="0.0001"/>
      <inertia ixx="1e-08" ixy="0" ixz="0" iyy="1e-08" iyz="0" izz="1e-08"/>
    </inertial>
  </link>
  <link name="left_hand_camera_axis">
    <inertial>
      <origin rpy="0 0 0" xyz="0 0 0"/>
      <mass value="0.0001"/>
      <inertia ixx="1e-08" ixy="0" ixz="0" iyy="1e-08" iyz="0" izz="1e-08"/>
    </inertial>
  </link>
  <link name="left_hand_range">
    <visual>
      <origin rpy="0 0 0" xyz="0 0 0"/>
      <geometry>
        <box size="0.005 .02 .005"/>
      </geometry>
      <material name="blue">
        <color rgba="0 0 1 0.8"/>
      </material>
    </visual>
    <inertial>
      <origin rpy="0 0 0" xyz="0 0 0"/>
      <mass value="0.0001"/>
      <inertia ixx="1e-08" ixy="0" ixz="0" iyy="1e-08" iyz="0" izz="1e-08"/>
    </inertial>
  </link>
  <link name="left_hand_accelerometer">
    <visual>
      <origin rpy="0 0 0" xyz="0 0 0"/>
      <geometry>
        <box size="0.01 0.01 0.01"/>
      </geometry>
      <material name="black">
        <color rgba="0 0 0 1"/>
      </material>
    </visual>
    <inertial>
      <origin rpy="0 0 0" xyz="0.000000 0.000000 0.000000"/>
      <mass value="0.0001"/>
      <inertia ixx="1e-08" ixy="0" ixz="0" iyy="1e-08" iyz="0" izz="1e-08"/>
    </inertial>
  </link>
  <link name="left_gripper_base">
    <visual>
      <origin rpy="0 0 0" xyz="0 0 -0.02"/>
      <geometry>
        <box size="0.025 0.075 0.035"/>
      </geometry>
      <material name="darkred">
        <color rgba=".5 .1 .1 1"/>
      </material>
    </visual>
    <inertial>
      <origin rpy="0 0 0" xyz="0.000000 0.000000 0.000000"/>
      <mass value="0.0001"/>
      <inertia ixx="1e-08" ixy="0" ixz="0" iyy="1e-08" iyz="0" izz="1e-08"/>
    </inertial>
  </link>
  <link name="left_gripper">
    <visual>
      <origin rpy="0 0 0" xyz="0 0 0"/>
      <geometry>
        <box size="0.01 0.01 0.01"/>
      </geometry>
      <material name="black">
        <color rgba="0 0 0 1"/>
      </material>
    </visual>
    <inertial>
      <origin rpy="0 0 0" xyz="0.000000 0.000000 0.000000"/>
      <mass value="0.0001"/>
      <inertia ixx="1e-08" ixy="0" ixz="0" iyy="1e-08" iyz="0" izz="1e-08"/>
    </inertial>
  </link>
  <joint name="left_torso_arm_mount" type="fixed">
    <origin rpy="0 0 0.7854" xyz="0.024645 0.219645 0.118588"/>
    <parent link="torso"/>
    <child link="left_arm_mount"/>
  </joint>
  <joint name="left_s0" type="revolute">
    <origin rpy="0 0 0" xyz="0.055695 0 0.011038"/>
    <axis xyz="0 0 1"/>
    <parent link="left_arm_mount"/>
    <child link="left_upper_shoulder"/>
    <limit effort="50.0" lower="-1.70167993878" upper="1.70167993878" velocity="1.5"/>
    <dynamics damping="0.7" friction="0.0"/>
  </joint>
  <joint name="left_s1" type="revolute">
    <origin rpy="-1.57079632679 0 0" xyz="0.069 0 0.27035"/>
    <axis xyz="0 0 1"/>
    <parent link="left_upper_shoulder"/>
    <child link="left_lower_shoulder"/>
    <limit effort="100.0" lower="-2.147" upper="1.047" velocity="1.5"/>
    <dynamics damping="0.7" friction="0.0"/>
  </joint>
  <joint name="left_e0" type="revolute">
    <origin rpy="1.57079632679 0 1.57079632679" xyz="0.102 0 0"/>
    <axis xyz="0 0 1"/>
    <parent link="left_lower_shoulder"/>
    <child link="left_upper_elbow"/>
    <limit effort="50.0" lower="-3.05417993878" upper="3.05417993878" velocity="1.5"/>
    <dynamics damping="0.7" friction="0.0"/>
  </joint>
  <joint name="left_e0_fixed" type="fixed">
    <origin rpy="1.57079632679 0 1.57079632679" xyz="0.107 0 0"/>
    <axis xyz="0 0 1"/>
    <parent link="left_lower_shoulder"/>
    <child link="left_upper_elbow_visual"/>
  </joint>
  <joint name="left_e1" type="revolute">
    <origin rpy="-1.57079632679 -1.57079632679 0" xyz="0.069 0 0.26242"/>
    <axis xyz="0 0 1"/>
    <parent link="left_upper_elbow"/>
    <child link="left_lower_elbow"/>
    <limit effort="50.0" lower="-0.05" upper="2.618" velocity="1.5"/>
    <dynamics damping="0.7" friction="0.0"/>
  </joint>
  <joint name="left_w0" type="revolute">
    <origin rpy="1.57079632679 0 1.57079632679" xyz="0.10359 0 0"/>
    <axis xyz="0 0 1"/>
    <parent link="left_lower_elbow"/>
    <child link="left_upper_forearm"/>
    <limit effort="15.0" lower="-3.059" upper="3.059" velocity="4.0"/>
    <dynamics damping="0.7" friction="0.0"/>
  </joint>
  <joint name="left_w0_fixed" type="fixed">
    <origin rpy="1.57079632679 0 1.57079632679" xyz="0.088 0 0"/>
    <axis xyz="0 0 1"/>
    <parent link="left_lower_elbow"/>
    <child link="left_upper_forearm_visual"/>
  </joint>
  <joint name="left_w0_to_itb_fixed" type="fixed">
    <origin rpy="-1.57079632679 0 1.57079632679" xyz="-0.0565 0 0.12"/>
    <axis xyz="0 0 1"/>
    <parent link="left_upper_forearm"/>
    <child link="left_arm_itb"/>
  </joint>
  <joint name="left_w1" type="revolute">
    <origin rpy="-1.57079632679 -1.57079632679 0" xyz="0.01 0 0.2707"/>
    <axis xyz="0 0 1"/>
    <parent link="left_upper_forearm"/>
    <child link="left_lower_forearm"/>
    <limit effort="15.0" lower="-1.57079632679" upper="2.094" velocity="4.0"/>
    <dynamics damping="0.7" friction="0.0"/>
  </joint>
  <joint name="left_w2" type="revolute">
    <origin rpy="1.57079632679 0 1.57079632679" xyz="0.115975 0 0"/>
    <axis xyz="0 0 1"/>
    <parent link="left_lower_forearm"/>
    <child link="left_wrist"/>
    <limit effort="15.0" lower="-3.059" upper="3.059" velocity="4.0"/>
    <dynamics damping="0.7" friction="0.0"/>
  </joint>
  <joint name="left_hand" type="fixed">
    <origin rpy="0 0 0" xyz="0 0 0.11355"/>
    <axis xyz="0 0 1"/>
    <parent link="left_wrist"/>
    <child link="left_hand"/>
    <dynamics damping="0.7" friction="0.0"/>
  </joint>
  <joint name="left_hand_camera" type="fixed">
    <origin rpy="0 0 -1.57079633" xyz="0.03825 0.012 0.015355"/>
    <parent link="left_hand"/>
    <child link="left_hand_camera"/>
  </joint>
  <joint name="left_hand_camera_axis" type="fixed">
    <origin rpy="0 0 0" xyz="0.03825 0.012 0.015355"/>
    <parent link="left_hand"/>
    <child link="left_hand_camera_axis"/>
  </joint>
  <joint name="left_hand_range" type="fixed">
    <origin rpy="0 -1.57079632679 -1.57079632679" xyz="0.032 -0.020245 0.0288"/>
    <parent link="left_hand"/>
    <child link="left_hand_range"/>
  </joint>
  <joint name="left_hand_accelerometer" type="fixed">
    <origin rpy="0 0 0" xyz="0.00198 0.000133 -0.0146"/>
    <parent link="left_hand"/>
    <child link="left_hand_accelerometer"/>
  </joint>
  <joint name="left_gripper_base" type="fixed">
    <origin rpy="0 0 0" xyz="0 0 0"/>
    <parent link="left_hand"/>
    <child link="left_gripper_base"/>
  </joint>
  <joint name="left_endpoint" type="fixed">
    <origin rpy="0 0 0" xyz="0.0 0 0.025"/>
    <parent link="left_gripper_base"/>
    <child link="left_gripper"/>
  </joint>
  <transmission name="right_tran1">
    <type>transmission_interface/SimpleTransmission</type>
    <joint name="right_s0"/>
    <actuator name="right_motor1">
      <hardwareInterface>EffortJointInterface</hardwareInterface>
      <mechanicalReduction>1</mechanicalReduction>
    </actuator>
  </transmission>
  <transmission name="right_tran2">
    <type>transmission_interface/SimpleTransmission</type>
    <joint name="right_s1"/>
    <actuator name="right_motor2">
      <hardwareInterface>EffortJointInterface</hardwareInterface>
      <mechanicalReduction>1</mechanicalReduction>
    </actuator>
  </transmission>
  <transmission name="right_tran3">
    <type>transmission_interface/SimpleTransmission</type>
    <joint name="right_e0"/>
    <actuator name="right_motor3">
      <hardwareInterface>EffortJointInterface</hardwareInterface>
      <mechanicalReduction>1</mechanicalReduction>
    </actuator>
  </transmission>
  <transmission name="right_tran4">
    <type>transmission_interface/SimpleTransmission</type>
    <joint name="right_e1"/>
    <actuator name="right_motor4">
      <hardwareInterface>EffortJointInterface</hardwareInterface>
      <mechanicalReduction>1</mechanicalReduction>
    </actuator>
  </transmission>
  <transmission name="right_tran5">
    <type>transmission_interface/SimpleTransmission</type>
    <joint name="right_w0"/>
    <actuator name="right_motor5">
      <hardwareInterface>EffortJointInterface</hardwareInterface>
      <mechanicalReduction>1</mechanicalReduction>
    </actuator>
  </transmission>
  <transmission name="right_tran6">
    <type>transmission_interface/SimpleTransmission</type>
    <joint name="right_w1"/>
    <actuator name="right_motor6">
      <hardwareInterface>EffortJointInterface</hardwareInterface>
      <mechanicalReduction>1</mechanicalReduction>
    </actuator>
  </transmission>
  <transmission name="right_tran7">
    <type>transmission_interface/SimpleTransmission</type>
    <joint name="right_w2"/>
    <actuator name="right_motor7">
      <hardwareInterface>EffortJointInterface</hardwareInterface>
      <mechanicalReduction>1</mechanicalReduction>
    </actuator>
  </transmission>
  <transmission name="left_tran1">
    <type>transmission_interface/SimpleTransmission</type>
    <joint name="left_s0"/>
    <actuator name="left_motor1">
      <hardwareInterface>EffortJointInterface</hardwareInterface>
      <mechanicalReduction>1</mechanicalReduction>
    </actuator>
  </transmission>
  <transmission name="left_tran2">
    <type>transmission_interface/SimpleTransmission</type>
    <joint name="left_s1"/>
    <actuator name="left_motor2">
      <hardwareInterface>EffortJointInterface</hardwareInterface>
      <mechanicalReduction>1</mechanicalReduction>
    </actuator>
  </transmission>
  <transmission name="left_tran3">
    <type>transmission_interface/SimpleTransmission</type>
    <joint name="left_e0"/>
    <actuator name="left_motor3">
      <hardwareInterface>EffortJointInterface</hardwareInterface>
      <mechanicalReduction>1</mechanicalReduction>
    </actuator>
  </transmission>
  <transmission name="left_tran4">
    <type>transmission_interface/SimpleTransmission</type>
    <joint name="left_e1"/>
    <actuator name="left_motor4">
      <hardwareInterface>EffortJointInterface</hardwareInterface>
      <mechanicalReduction>1</mechanicalReduction>
    </actuator>
  </transmission>
  <transmission name="left_tran5">
    <type>transmission_interface/SimpleTransmission</type>
    <joint name="left_w0"/>
    <actuator name="left_motor5">
      <hardwareInterface>EffortJointInterface</hardwareInterface>
      <mechanicalReduction>1</mechanicalReduction>
    </actuator>
  </transmission>
  <transmission name="left_tran6">
    <type>transmission_interface/SimpleTransmission</type>
    <joint name="left_w1"/>
    <actuator name="left_motor6">
      <hardwareInterface>EffortJointInterface</hardwareInterface>
      <mechanicalReduction>1</mechanicalReduction>
    </actuator>
  </transmission>
  <transmission name="left_tran7">
    <type>transmission_interface/SimpleTransmission</type>
    <joint name="left_w2"/>
    <actuator name="left_motor7">
      <hardwareInterface>EffortJointInterface</hardwareInterface>
      <mechanicalReduction>1</mechanicalReduction>
    </actuator>
  </transmission>
  <transmission name="head1">
    <type>transmission_interface/SimpleTransmission</type>
    <joint name="head_pan"/>
    <actuator name="head_motor1">
      <hardwareInterface>EffortJointInterface</hardwareInterface>
      <mechanicalReduction>1</mechanicalReduction>
    </actuator>
  </transmission>
  <gazebo>
    <plugin filename="libbaxter_gazebo_ros_control.so" name="baxter_ros_control">
      <robotNamespace>/robot</robotNamespace>
    </plugin>
  </gazebo>
  <gazebo reference="torso">
    <selfCollide>true</selfCollide>
  </gazebo>
  <gazebo reference="head_pan">
    <implicitSpringDamper>1</implicitSpringDamper>
  </gazebo>
  <gazebo reference="right_s0">
    <implicitSpringDamper>1</implicitSpringDamper>
  </gazebo>
  <gazebo reference="right_s1">
    <implicitSpringDamper>1</implicitSpringDamper>
  </gazebo>
  <gazebo reference="right_e0">
    <implicitSpringDamper>1</implicitSpringDamper>
  </gazebo>
  <gazebo reference="right_e1">
    <implicitSpringDamper>1</implicitSpringDamper>
  </gazebo>
  <gazebo reference="right_w0">
    <implicitSpringDamper>1</implicitSpringDamper>
  </gazebo>
  <gazebo reference="right_w1">
    <implicitSpringDamper>1</implicitSpringDamper>
  </gazebo>
  <gazebo reference="right_w2">
    <implicitSpringDamper>1</implicitSpringDamper>
  </gazebo>
  <gazebo reference="left_s0">
    <implicitSpringDamper>1</implicitSpringDamper>
  </gazebo>
  <gazebo reference="left_s1">
    <implicitSpringDamper>1</implicitSpringDamper>
  </gazebo>
  <gazebo reference="left_e0">
    <implicitSpringDamper>1</implicitSpringDamper>
  </gazebo>
  <gazebo reference="left_e1">
    <implicitSpringDamper>1</implicitSpringDamper>
  </gazebo>
  <gazebo reference="left_w0">
    <implicitSpringDamper>1</implicitSpringDamper>
  </gazebo>
  <gazebo reference="left_w1">
    <implicitSpringDamper>1</implicitSpringDamper>
  </gazebo>
  <gazebo reference="left_w2">
    <implicitSpringDamper>1</implicitSpringDamper>
  </gazebo>
  <gazebo reference="head_camera">
    <sensor name="head_camera" type="camera">
      <update_rate>30.0</update_rate>
      <camera name="head_camera">
        <pose>0.0 0.21 0.0 0.0 -0.8 -1.570796327 </pose>
        <horizontal_fov>1.3962634</horizontal_fov>
        <image>
          <width>800</width>
          <height>800</height>
          <format>R8G8B8</format>
        </image>
        <clip>
          <near>0.02</near>
          <far>300</far>
        </clip>
        <noise>
          <type>gaussian</type>
          <mean>0.0</mean>
          <stddev>0.007</stddev>
        </noise>
      </camera>
      <plugin filename="libgazebo_ros_camera.so" name="camera_controller">
        <alwaysOn>true</alwaysOn>
        <updateRate>0.0</updateRate>
        <cameraName>head_camera</cameraName>
        <imageTopicName>image</imageTopicName>
        <cameraInfoTopicName>camera_info</cameraInfoTopicName>
        <frameName>head_camera</frameName>
        <hackBaseline>0.07</hackBaseline>
        <distortionK1>0.0</distortionK1>
        <distortionK2>0.0</distortionK2>
        <distortionK3>0.0</distortionK3>
        <distortionT1>0.0</distortionT1>
        <distortionT2>0.0</distortionT2>
        <robotNamespace>/cameras</robotNamespace>
      </plugin>
    </sensor>
  </gazebo>
  <gazebo reference="right_hand_camera">
    <sensor name="right_hand_camera" type="camera">
      <update_rate>30.0</update_rate>
      <camera name="right_hand_camera">
        <pose>0.0 0.0 0.0 0.0 -1.570796327 1.570796327 </pose>
        <horizontal_fov>1.3962634</horizontal_fov>
        <image>
          <width>800</width>
          <height>800</height>
          <format>R8G8B8</format>
        </image>
        <clip>
          <near>0.02</near>
          <far>300</far>
        </clip>
        <noise>
          <type>gaussian</type>
          <mean>0.0</mean>
          <stddev>0.007</stddev>
        </noise>
      </camera>
      <plugin filename="libgazebo_ros_camera.so" name="camera_controller">
        <alwaysOn>true</alwaysOn>
        <updateRate>0.0</updateRate>
        <cameraName>right_hand_camera</cameraName>
        <imageTopicName>image</imageTopicName>
        <cameraInfoTopicName>camera_info</cameraInfoTopicName>
        <frameName>right_hand_camera</frameName>
        <hackBaseline>0.07</hackBaseline>
        <distortionK1>0.0</distortionK1>
        <distortionK2>0.0</distortionK2>
        <distortionK3>0.0</distortionK3>
        <distortionT1>0.0</distortionT1>
        <distortionT2>0.0</distortionT2>
        <robotNamespace>/cameras</robotNamespace>
      </plugin>
    </sensor>
  </gazebo>
  <gazebo reference="left_hand_camera">
    <sensor name="left_hand_camera" type="camera">
      <update_rate>30.0</update_rate>
      <camera name="left_hand_camera">
        <pose>0.0 0.0 0.0 0.0 -1.570796327 1.570796327 </pose>
        <horizontal_fov>1.3962634</horizontal_fov>
        <image>
          <width>800</width>
          <height>800</height>
          <format>R8G8B8</format>
        </image>
        <clip>
          <near>0.02</near>
          <far>300</far>
        </clip>
        <noise>
          <type>gaussian</type>
          <mean>0.0</mean>
          <stddev>0.007</stddev>
        </noise>
      </camera>
      <plugin filename="libgazebo_ros_camera.so" name="camera_controller">
        <alwaysOn>true</alwaysOn>
        <updateRate>0.0</updateRate>
        <cameraName>left_hand_camera</cameraName>
        <imageTopicName>image</imageTopicName>
        <cameraInfoTopicName>camera_info</cameraInfoTopicName>
        <frameName>left_hand_camera</frameName>
        <hackBaseline>0.07</hackBaseline>
        <distortionK1>0.0</distortionK1>
        <distortionK2>0.0</distortionK2>
        <distortionK3>0.0</distortionK3>
        <distortionT1>0.0</distortionT1>
        <distortionT2>0.0</distortionT2>
        <robotNamespace>/cameras</robotNamespace>
      </plugin>
    </sensor>
  </gazebo>
  <gazebo reference="display">
    <visual>
      <plugin filename="libgazebo_ros_video.so" name="screen_video_controller">
        <height>600</height>
        <width>1024</width>
        <topicName>/robot/xdisplay</topicName>
      </plugin>
    </visual>
  </gazebo>
  <gazebo reference="sonar_ring">
    <sensor name="sonar" type="ray">
      <pose>0.0 0.0 0.0 0.0 0.0 0.0</pose>
      <ray>
        <scan>
          <horizontal>
            <samples>12</samples>
            <resolution>1.0</resolution>
            <min_angle>-3.14</min_angle>
            <max_angle>3.14</max_angle>
          </horizontal>
          <vertical>
            <samples>2</samples>
            <resolution>1.0</resolution>
            <min_angle>-0.001</min_angle>
            <max_angle>0</max_angle>
          </vertical>
        </scan>
        <range>
          <min>0.05</min>
          <max>50.0</max>
        </range>
      </ray>
      <plugin filename="libgazebo_ros_block_laser.so" name="sonar_plugin">
        <gaussianNoise>0.00</gaussianNoise>
        <alwaysOn>true</alwaysOn>
        <updateRate>100.0</updateRate>
        <topicName>/robot/sonar/head_sonar/state</topicName>
        <frameName>sonar_ring</frameName>
      </plugin>
      <always_on>true</always_on>
      <update_rate>100.0</update_rate>
    </sensor>
  </gazebo>
  <gazebo reference="right_hand_range">
    <sensor name="ir_right" type="ray">
      <pose>0.0 0.0 0.0 0.0 0.0 0.0</pose>
      <ray>
        <scan>
          <horizontal>
            <samples>1</samples>
            <resolution>1.0</resolution>
            <min_angle>-0.5</min_angle>
            <max_angle>0.5</max_angle>
          </horizontal>
        </scan>
        <range>
          <min>0.004</min>
          <max>0.4</max>
        </range>
      </ray>
      <plugin filename="libgazebo_ros_laser.so" name="plugin_3">
        <gaussianNoise>0.005</gaussianNoise>
        <alwaysOn>true</alwaysOn>
        <updateRate>100</updateRate>
        <topicName>/sim/laserscan/right_hand_range/state</topicName>
        <frameName>right_hand_range</frameName>
      </plugin>
      <always_on>true</always_on>
      <update_rate>100.0</update_rate>
    </sensor>
  </gazebo>
  <gazebo reference="left_hand_range">
    <sensor name="ir_left" type="ray">
      <pose>0.0 0.0 0.0 0.0 0.0 0.0</pose>
      <ray>
        <scan>
          <horizontal>
            <samples>1</samples>
            <resolution>1.0</resolution>
            <min_angle>-0.5</min_angle>
            <max_angle>0.5</max_angle>
          </horizontal>
        </scan>
        <range>
          <min>0.004</min>
          <max>0.4</max>
        </range>
      </ray>
      <plugin filename="libgazebo_ros_laser.so" name="plugin_4">
        <gaussianNoise>0.005</gaussianNoise>
        <alwaysOn>true</alwaysOn>
        <updateRate>100</updateRate>
        <topicName>/sim/laserscan/left_hand_range/state</topicName>
        <frameName>left_hand_range</frameName>
      </plugin>
      <always_on>true</always_on>
      <update_rate>100.0</update_rate>
    </sensor>
  </gazebo>
  <link name="custom_vacuum_link">
    <visual>
      <origin rpy="0 0 1.57" xyz="0 0 -0.07"/>
      <geometry>
        <mesh filename="package://jsk_2015_05_baxter_apc/config/mesh/long1_simple.dae" scale="0.001 0.001 0.001"/>
      </geometry>
      <material name="white">
        <color rgba="1 1 1 1"/>
      </material>
    </visual>
    <collision>
      <geometry>
        <cylinder length="0.45" radius="0.02"/>
      </geometry>
    </collision>
  </link>
  <link name="custom_vacuum_link_base">
    <visual>
      <geometry>
        <mesh filename="package://jsk_2015_05_baxter_apc/config/mesh/jigukailong2_simple.dae" scale="0.001 0.001 0.001"/>
      </geometry>
      <material name="white">
        <color rgba="1 1 1 1"/>
      </material>
    </visual>
    <collision>
      <geometry>
        <cylinder length="0.01" radius="0.04"/>
      </geometry>
    </collision>
  </link>
  <link name="custom_vacuum_link_side">
    <visual>
      <geometry>
        <box size="0.001 0.001 0.001"/>
      </geometry>
      <material name="white">
        <color rgba="0.001 0.001 0.001 1"/>
      </material>
    </visual>
    <collision>
      <geometry>
        <cylinder length="0.15" radius="0.02"/>
      </geometry>
    </collision>
  </link>
  <link name="custom_vacuum_link_side2">
    <visual>
      <geometry>
        <box size="0.001 0.001 0.001"/>
      </geometry>
      <material name="white">
        <color rgba="0.001 0.001 0.001 1"/>
      </material>
    </visual>
    <collision>
      <geometry>
        <cylinder length="0.12" radius="0.02"/>
      </geometry>
    </collision>
  </link>
  <link name="custom_vacuum_link_side2_base">
    <visual>
      <geometry>
        <cylinder length="0.06" radius="0.035"/>
      </geometry>
      <material name="white">
        <color rgba="0.001 0.001 0.001 1"/>
      </material>
    </visual>
    <collision>
      <geometry>
        <box size="0.001 0.001 0.001"/>
      </geometry>
    </collision>
  </link>
  <joint name="right_custom_joint" type="fixed">
    <parent link="right_wrist"/>
    <child link="custom_vacuum_link"/>
    <origin rpy="0 0 0" xyz="-0.04 0 0.18"/>
  </joint>
  <joint name="right_custom_joint_base" type="fixed">
    <parent link="right_wrist"/>
    <child link="custom_vacuum_link_base"/>
    <origin rpy="0 0 0" xyz="-0.04 0 0.11"/>
  </joint>
  <joint name="right_custom_joint_side" type="fixed">
    <parent link="right_wrist"/>
    <child link="custom_vacuum_link_side"/>
    <origin rpy="1.57 0 0" xyz="-0.04 0 0.15"/>
  </joint>
  <joint name="right_custom_joint_side2" type="fixed">
    <parent link="right_wrist"/>
    <child link="custom_vacuum_link_side2"/>
    <origin rpy="0 0 0" xyz="-0.04 0 0.08"/>
  </joint>
  <joint name="right_custom_joint_side2_base" type="fixed">
    <parent link="right_wrist"/>
    <child link="custom_vacuum_link_side2_base"/>
    <origin rpy="0 0 0" xyz="-0.04 0 0.04"/>
  </joint>
</robot>
